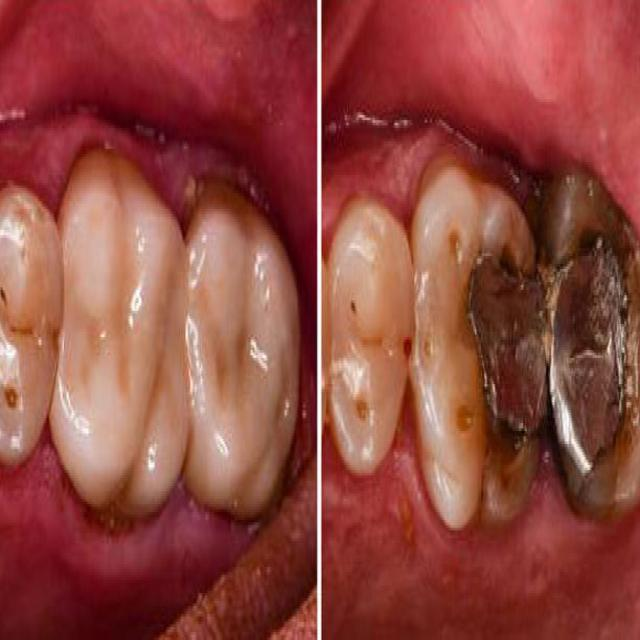caries: (547, 237, 629, 474), (468, 249, 546, 442), (0, 271, 33, 350), (0, 364, 30, 428), (443, 209, 468, 281), (398, 323, 418, 382), (352, 380, 374, 428), (453, 396, 475, 444), (344, 269, 361, 328), (421, 332, 437, 368)
